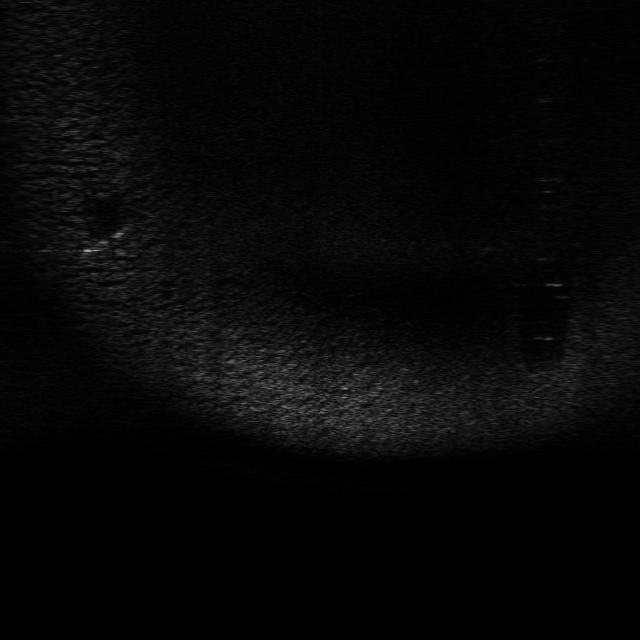plane: (72, 229, 137, 259)
